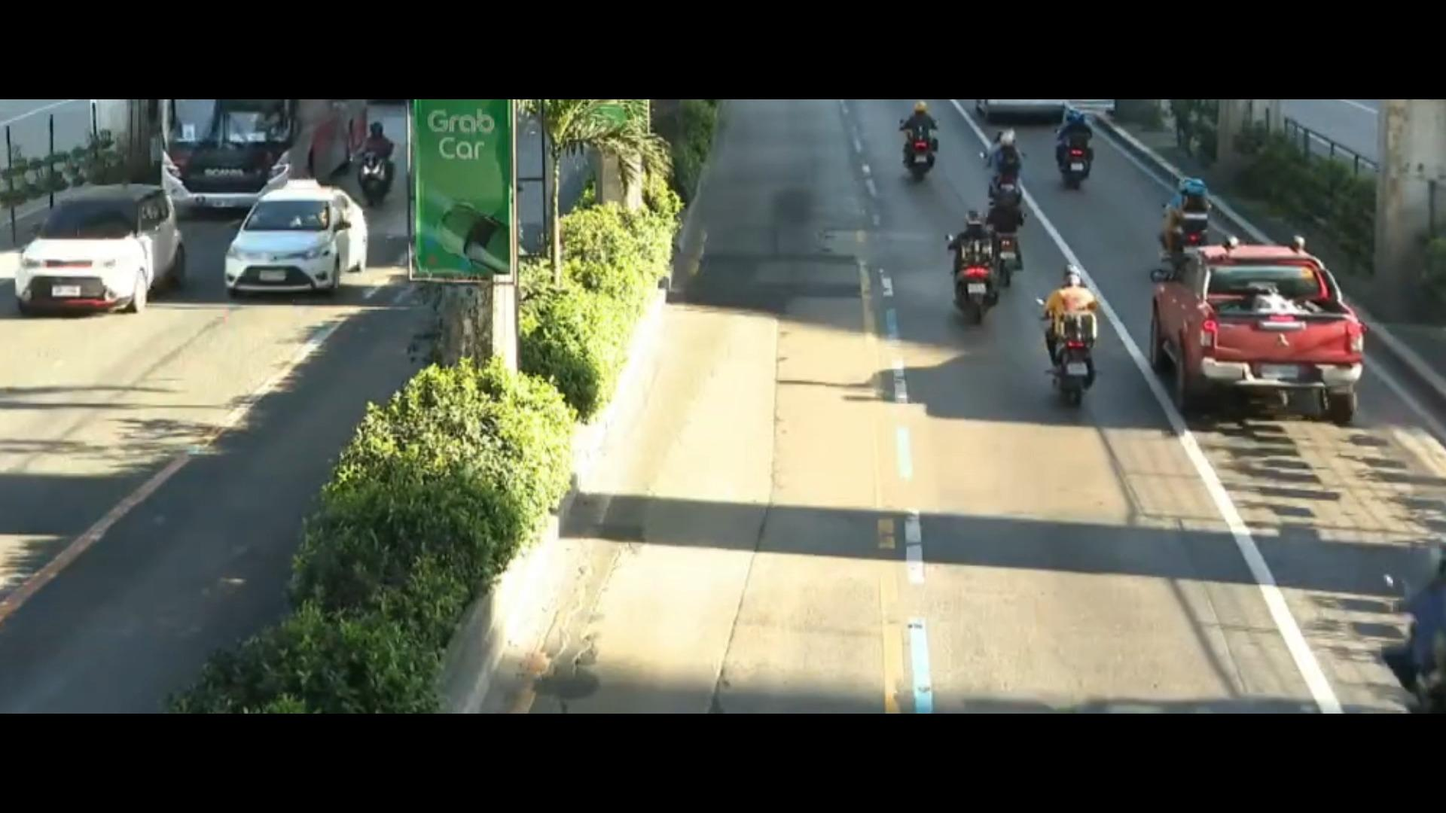Bus: (123, 96, 360, 208)
Motorcycle: (1013, 260, 1111, 411), (932, 198, 1013, 336), (338, 111, 411, 187), (1158, 172, 1215, 267), (891, 100, 959, 176), (986, 177, 1043, 252), (1055, 113, 1104, 179), (983, 130, 1027, 193)
Pickup: (1135, 224, 1371, 452)
SUV: (7, 179, 177, 316)
Sedan: (218, 185, 375, 307)
